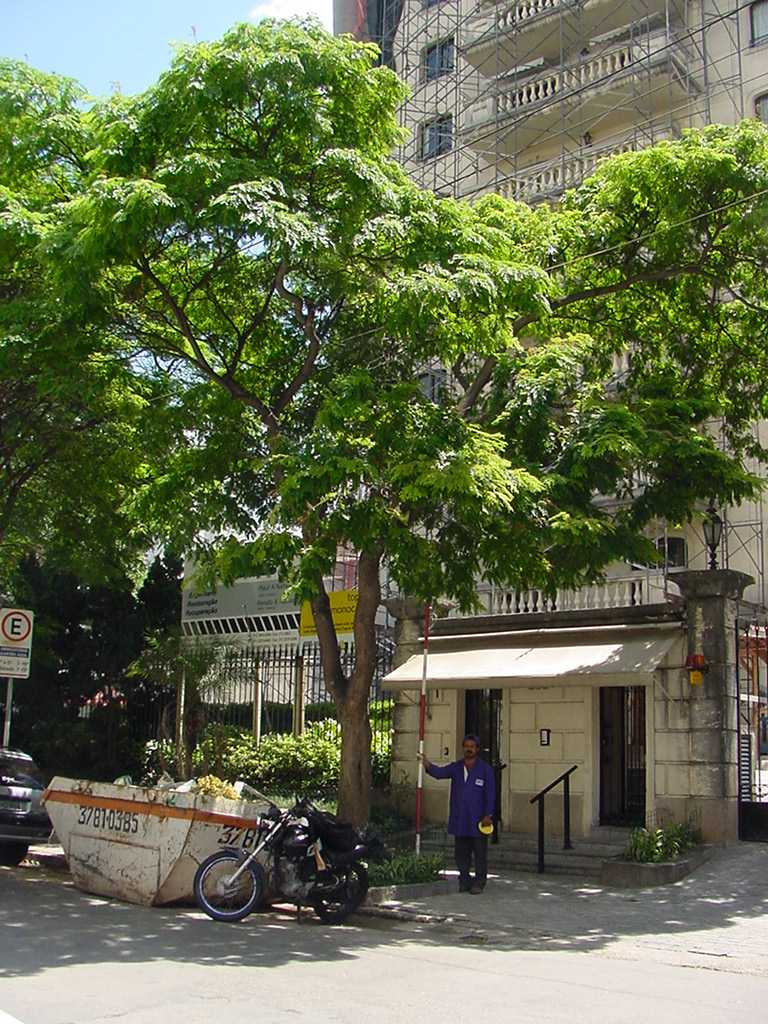crown: (1, 17, 765, 626)
stem: (317, 700, 390, 875)
stick: (412, 605, 435, 873)
tree: (1, 15, 766, 878)
